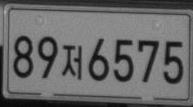5: (162, 41, 184, 84), (113, 39, 134, 82)
6: (87, 37, 109, 81)
7: (137, 39, 159, 82)
8: (12, 34, 34, 78)
9: (37, 35, 58, 79)
저: (61, 44, 83, 79)
